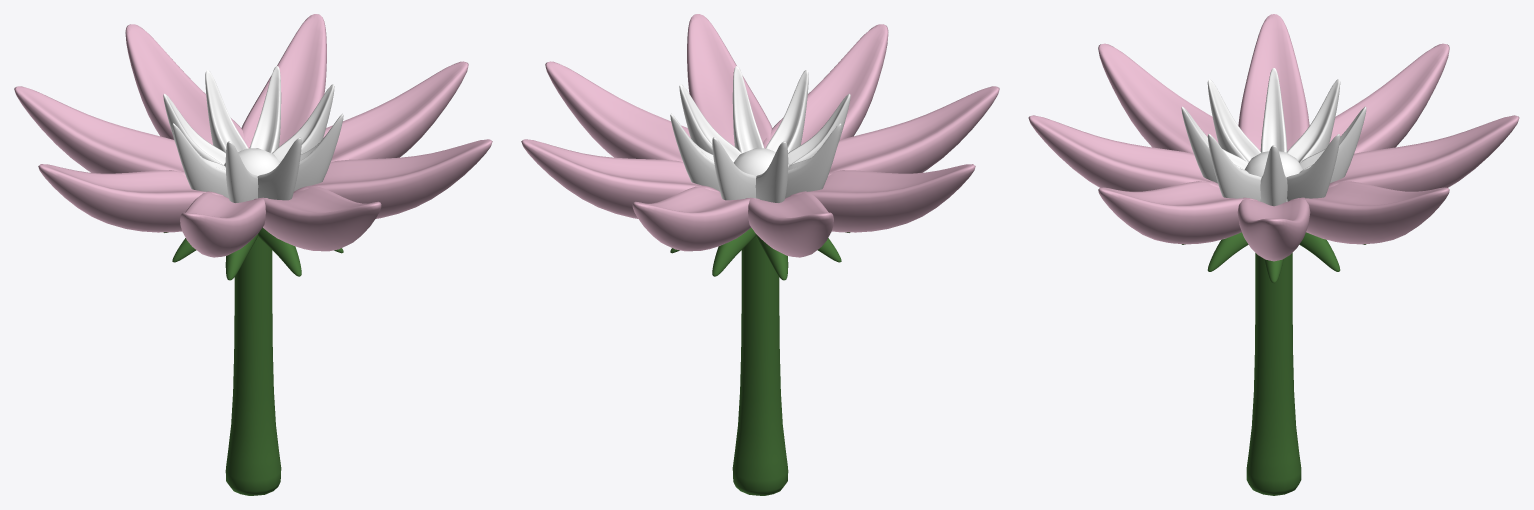
The model's file is Flower.glb.
3 renders of one model, left to right at view 1: azimuth 30°, elevation 25°; view 2: azimuth 150°, elevation 25°; view 3: azimuth 270°, elevation 25°, orthographic.
Parts seen in each view (by area): view 1: Flower; view 2: Flower; view 3: Flower.
Boxes of the visible parts, left/top/right/bottom form: Flower: left=14, top=14, right=492, bottom=495; Flower: left=521, top=14, right=999, bottom=495; Flower: left=1028, top=14, right=1519, bottom=495.
Bounding box in the file's own units: 0.6713 × 0.5803 × 0.6713.
